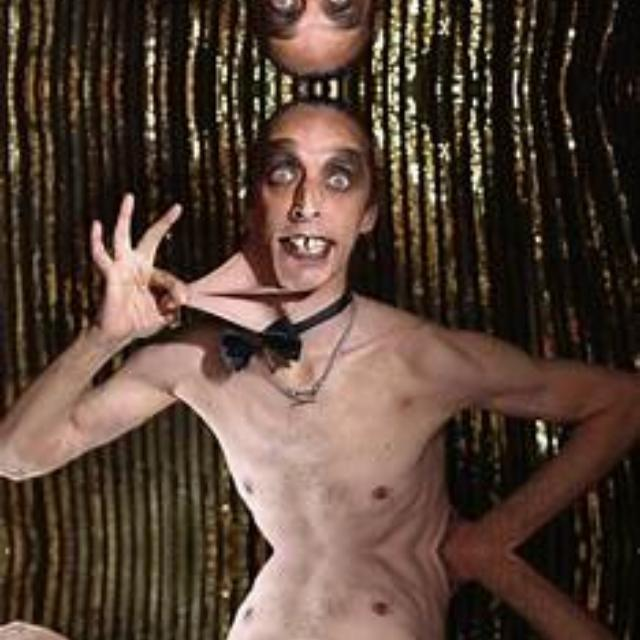person: (68, 106, 538, 540), (67, 560, 538, 640), (67, 0, 538, 70)
